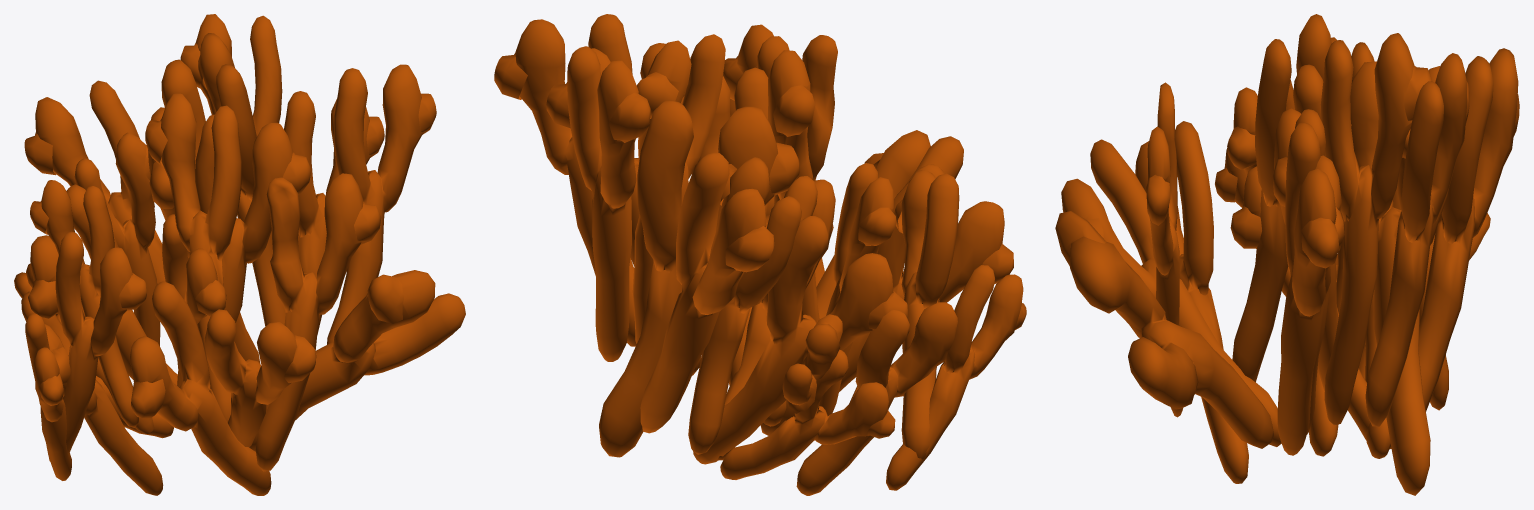
File: coral3.fbx
3 views of the same model, side by side, from view 1: azimuth 30°, elevation 25°; view 2: azimuth 150°, elevation 25°; view 3: azimuth 270°, elevation 25° (orthographic). The views are drawn at different scales.
Visible parts, largest first — view 1: polySurface173; view 2: polySurface173; view 3: polySurface173.
Boxes of the visible parts, bbox=[...] form: polySurface173: bbox=[14, 14, 465, 495]; polySurface173: bbox=[494, 14, 1026, 495]; polySurface173: bbox=[1055, 14, 1519, 495].
Size of the model in its own units: 3.09 by 2.79 by 2.5.
